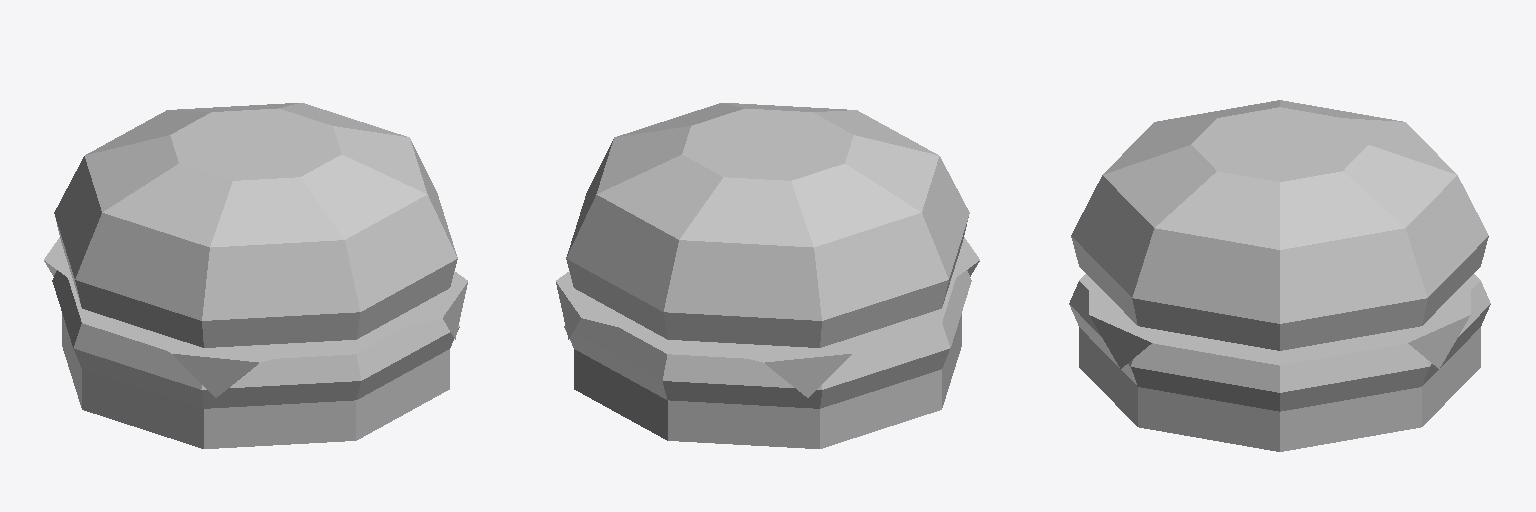
The model's file is burger-cheese.obj.
3 renders of one model, left to right at view 1: azimuth 30°, elevation 25°; view 2: azimuth 150°, elevation 25°; view 3: azimuth 270°, elevation 25°, orthographic.
Parts seen in each view (by area): view 1: bun-top, patty, bun-bottom, cheese; view 2: bun-top, patty, bun-bottom, cheese; view 3: bun-top, patty, bun-bottom, cheese.
Boxes of the visible parts, <box> form: bun-top: <box>54,103,457,347</box>; patty: <box>52,270,459,408</box>; bun-bottom: <box>62,314,449,448</box>; cheese: <box>44,237,467,397</box>; bun-top: <box>566,103,969,347</box>; patty: <box>564,270,971,408</box>; bun-bottom: <box>574,314,961,448</box>; cheese: <box>556,237,979,397</box>; bun-top: <box>1071,100,1488,350</box>; patty: <box>1069,274,1490,411</box>; bun-bottom: <box>1079,327,1480,451</box>; cheese: <box>1089,277,1470,368</box>.
Bounding box in the file's own units: 0.378 × 0.22 × 0.378.